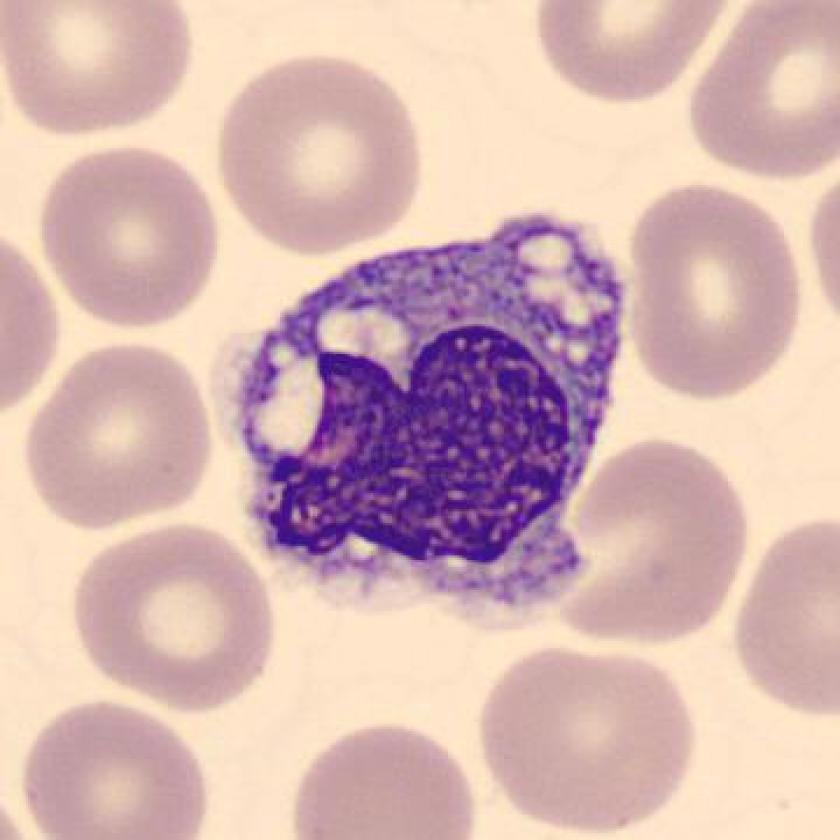monocyte: (204, 191, 650, 640)
